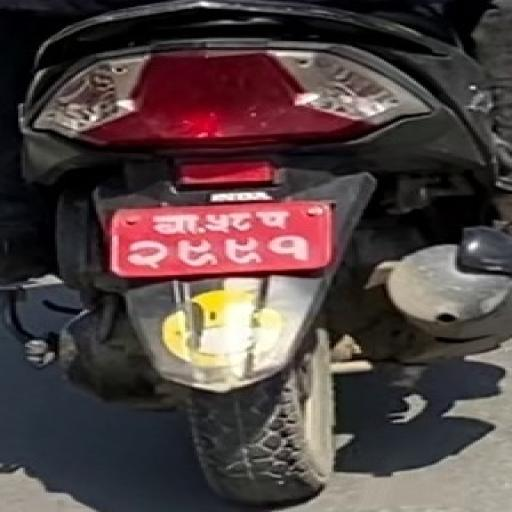license_plate: (107, 197, 340, 279)
